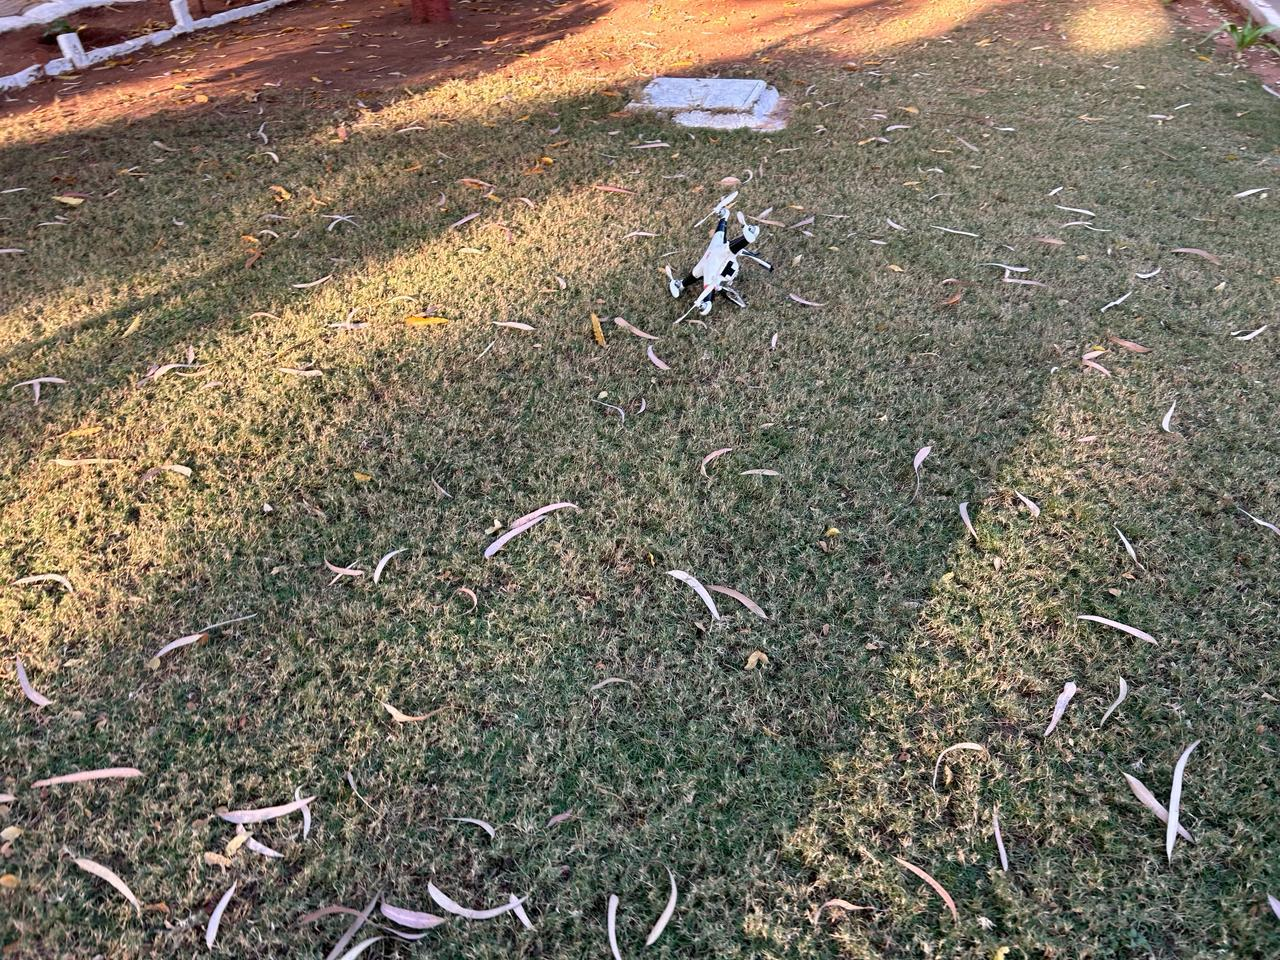drone: (595, 166, 848, 345)
